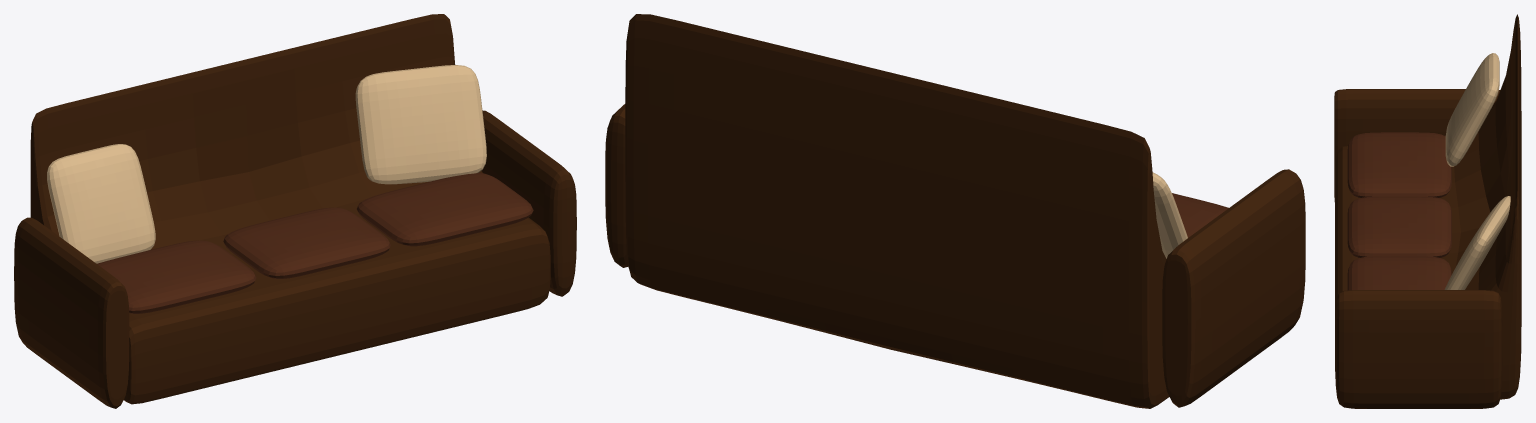
Rendered from couch.fbx.
The picture shows the model from 3 angles, left to right: view 1: azimuth 30°, elevation 25°; view 2: azimuth 150°, elevation 25°; view 3: azimuth 270°, elevation 25°; orthographic projection. The views are drawn at different scales.
Parts seen in each view (by area): view 1: Cube; view 2: Cube; view 3: Cube.
Part boxes in pixels (<box>): Cube: <box>14,14,576,408</box>; Cube: <box>605,14,1305,408</box>; Cube: <box>1334,14,1521,408</box>.
Bounding box in the file's own units: 3472 × 1581 × 1289.
